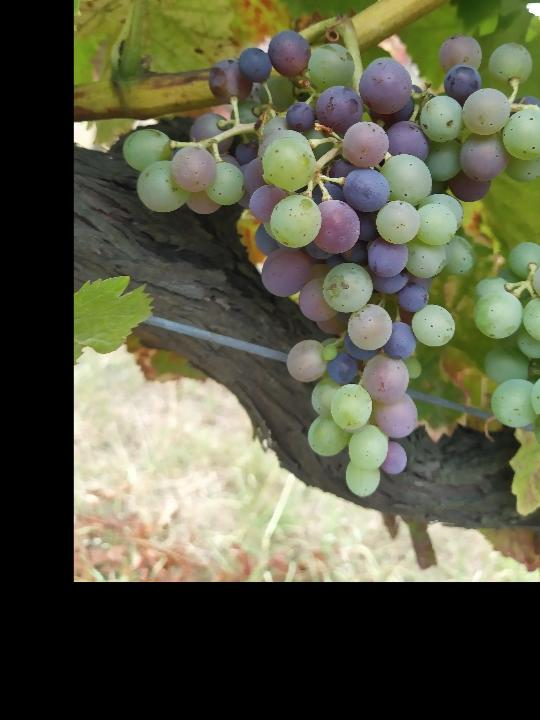grape: (118, 28, 540, 500)
